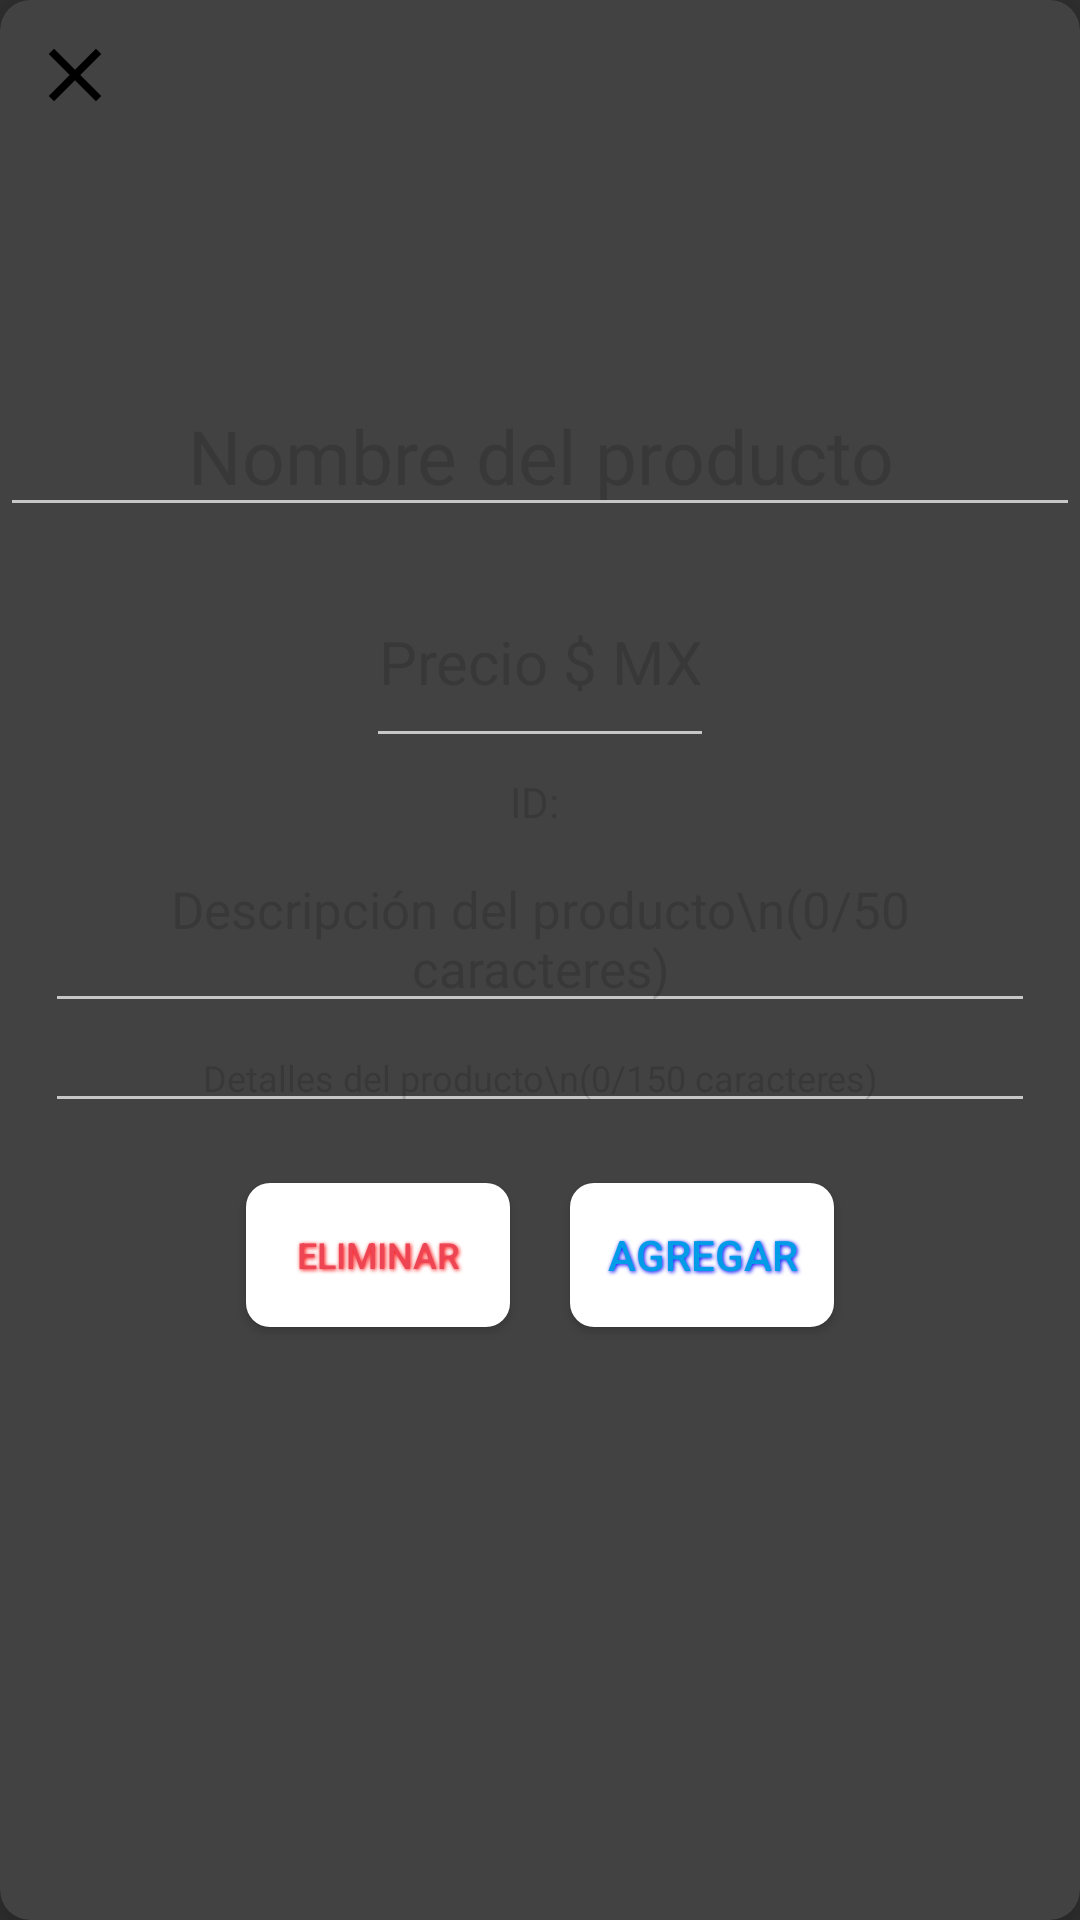

Icons on this 1080 x 1920 Android screen, each with the point to tap as (x,y):
close: (75,75)
